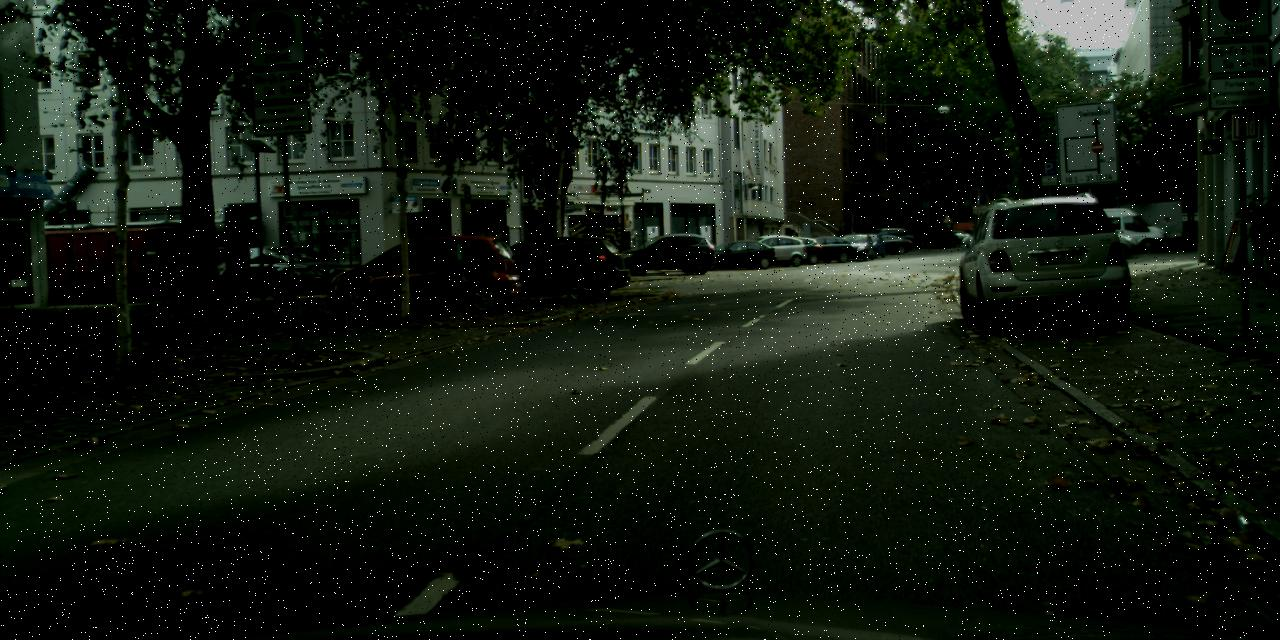ped: (834, 226, 844, 252)
